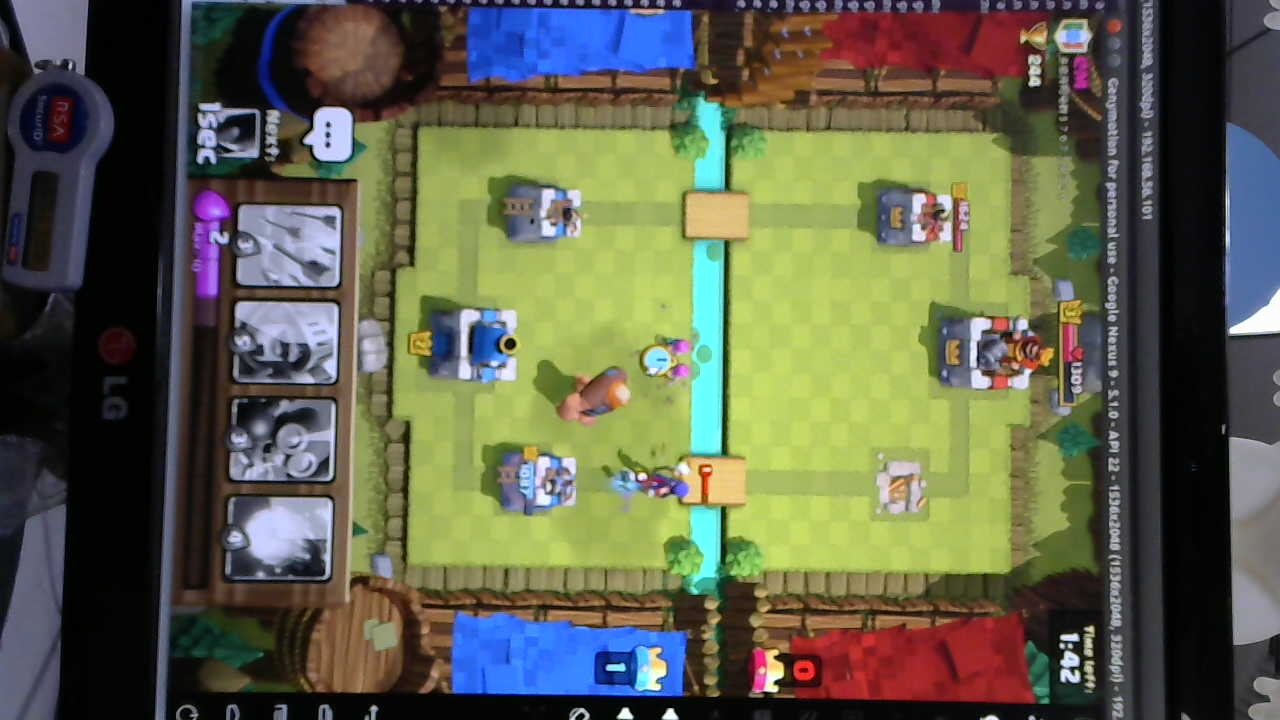archers: (636, 332, 695, 386)
